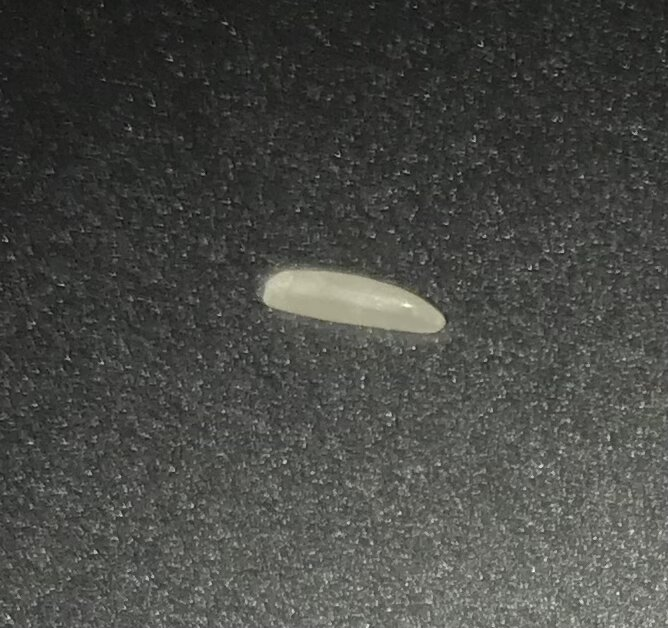Gao Long Lai: (254, 255, 450, 343)
